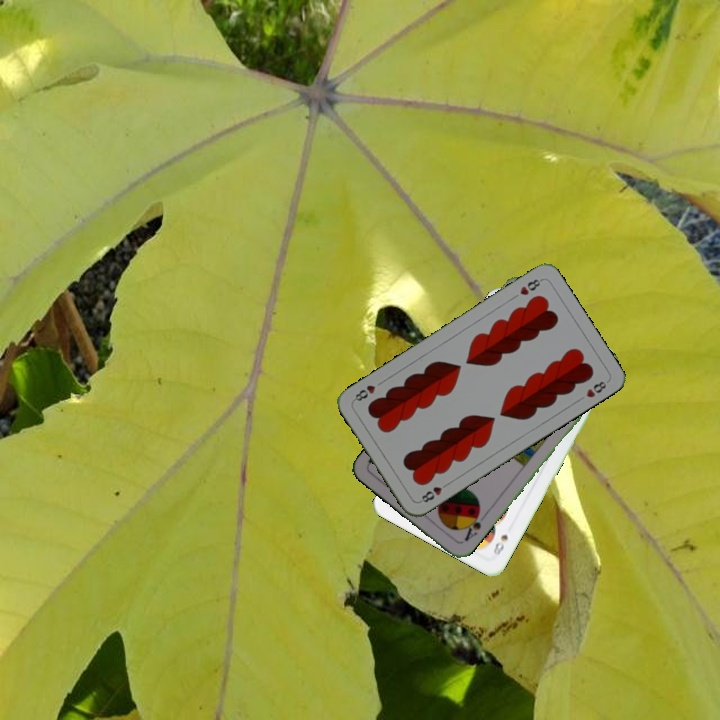H8: (415, 478, 452, 505), (516, 275, 545, 298)
S8: (489, 530, 511, 558)
SA: (459, 507, 484, 544)
